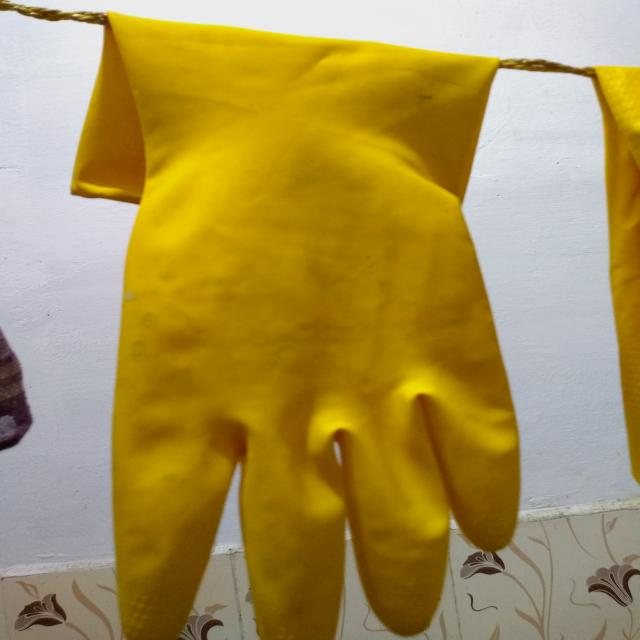glove: (55, 10, 522, 638)
